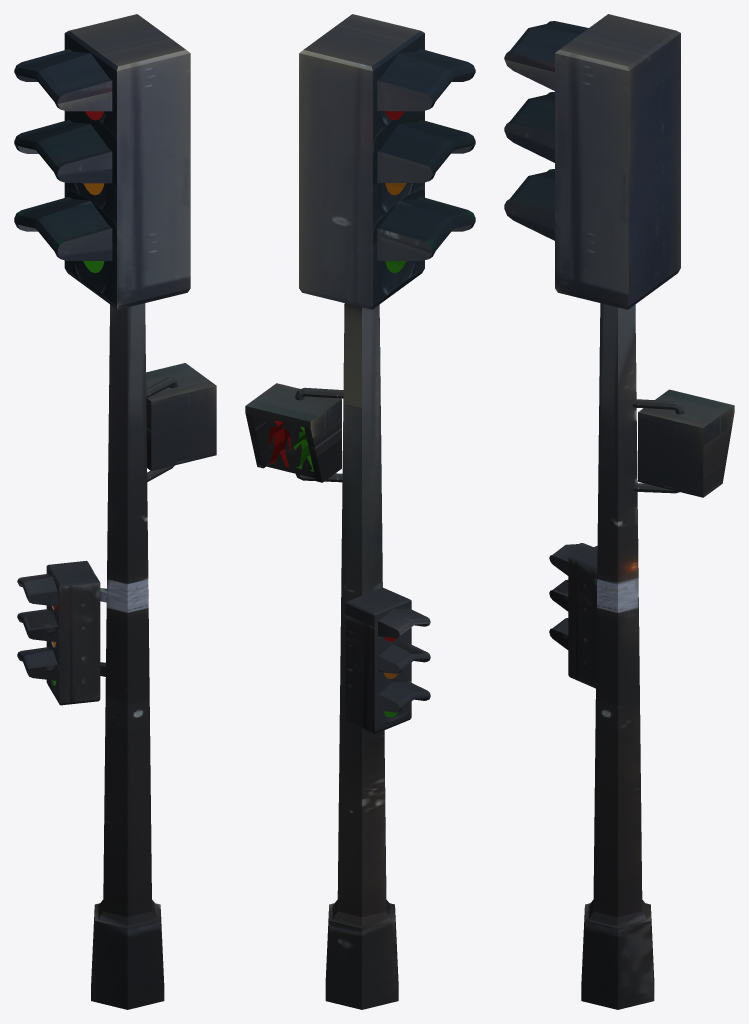
The model's file is FeuVoiture.fbx.
3 views of the same model, side by side, from view 1: azimuth 30°, elevation 25°; view 2: azimuth 150°, elevation 25°; view 3: azimuth 330°, elevation 25° (orthographic).
Visible parts, largest first — view 1: Poteau; view 2: Poteau; view 3: Poteau.
Boxes of the visible parts, x1,y1,x2,y2 form: Poteau: (14, 14, 216, 1009); Poteau: (245, 14, 475, 1009); Poteau: (504, 14, 734, 1009).
Bounding box in the file's own units: 0.7858 × 0.475 × 3.99.
4 materials, 1 textured.
